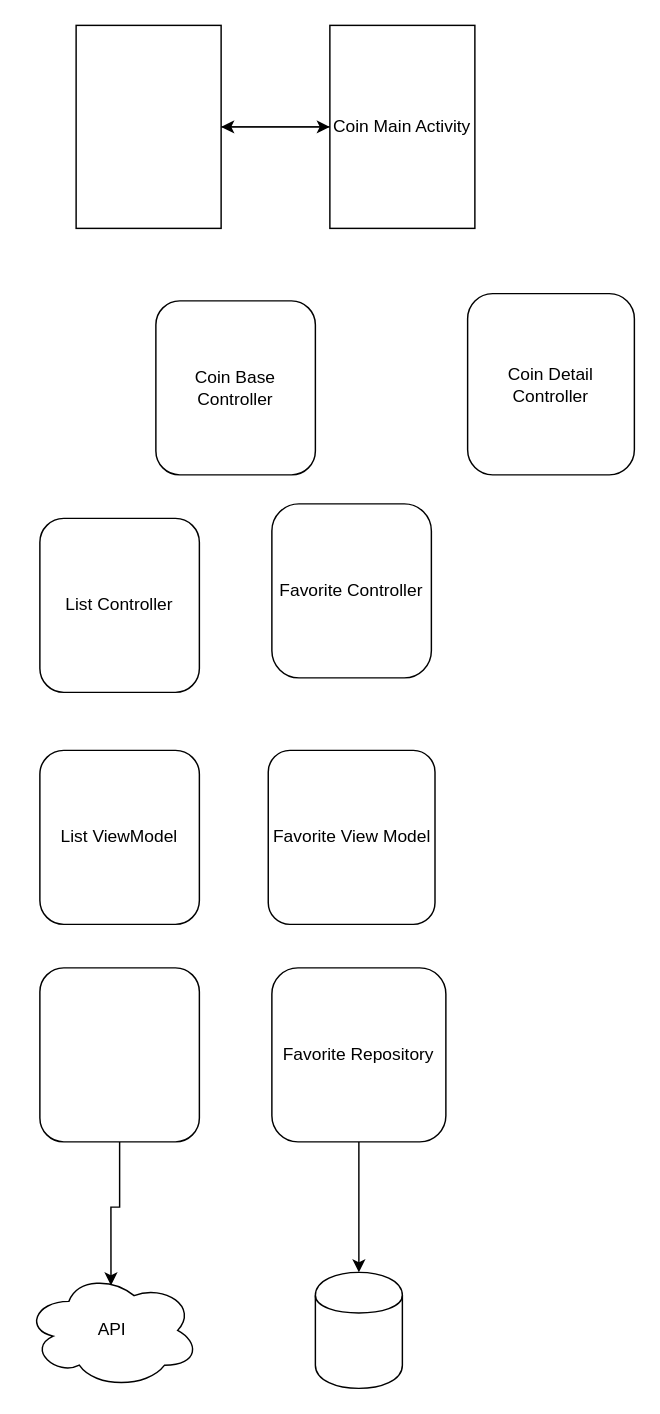
This 660x1414 diagram has some shape labels left out. Here are the shapes that lost their labels. From the top down, the centre of each, then its label:
At point 148,126: "Coin Settings Activity".
At point 118,1054: "List Repository".
At point 358,1329: "Local DB".
